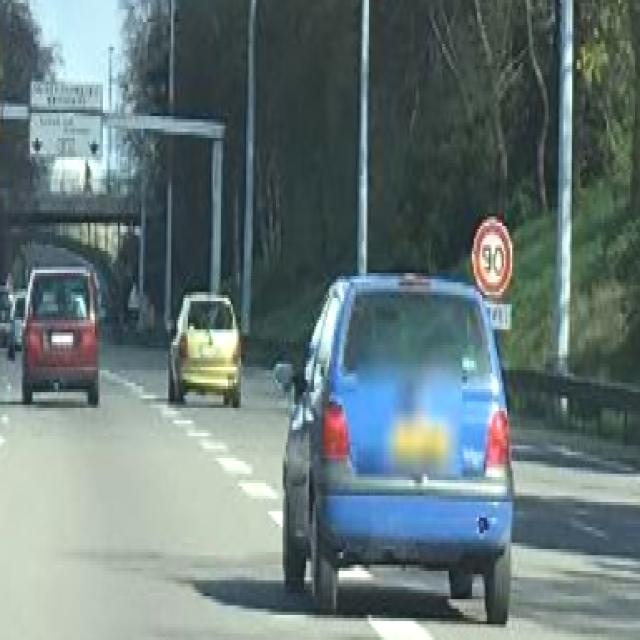speed_90: (473, 221, 513, 293)
